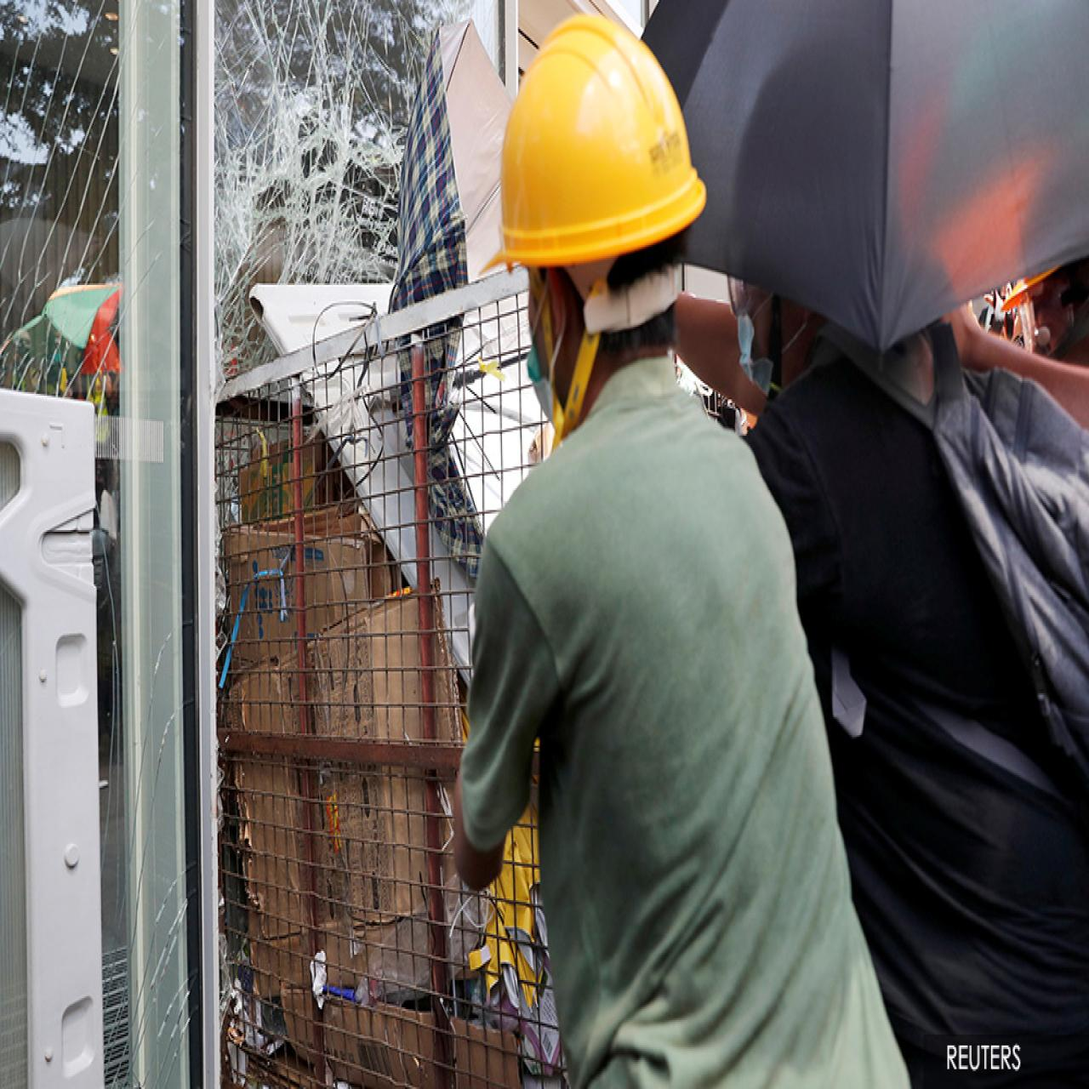NO_Safety_Vest: (508, 405, 885, 1089)
Person: (420, 0, 1027, 1089)
